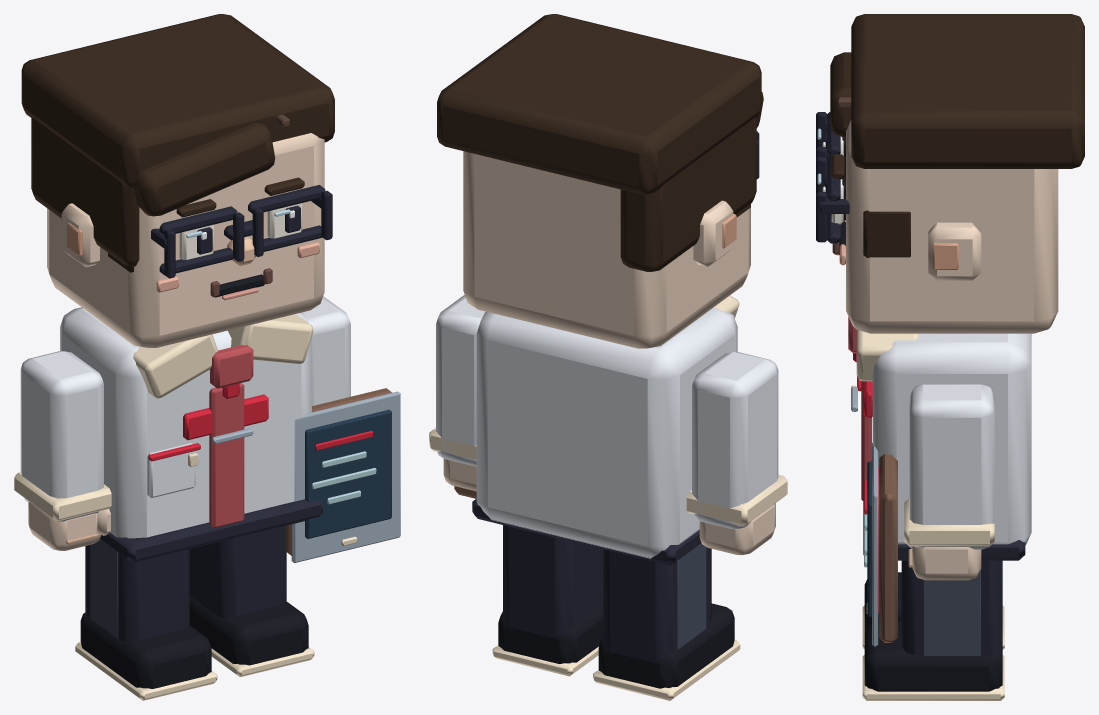
File: manager.glb
3 views of the same model, side by side, from view 1: azimuth 30°, elevation 25°; view 2: azimuth 150°, elevation 25°; view 3: azimuth 270°, elevation 25° (orthographic). The views are drawn at different scales.
Visible parts, largest first — view 1: Hair, Jacket, Face, Arm_L_sleeve, TabletDisplay, HairSide, Leg_R_trouser, SweptFringe, Leg_L_trouser, TabletRim, Leg_L_shoe, Leg_R_shoe (+21 smaller); view 2: Jacket, Hair, Face, Arm_L_sleeve, HairSide, Leg_R_trouser, Leg_L_trouser, Arm_R_sleeve, Leg_L_shoe, Leg_R_shoe, TrouserSeam, Arm_L_hand (+7 smaller); view 3: Hair, Face, Jacket, Arm_R_sleeve, Leg_R_shoe, TrouserSeam.001, Leg_R_trouser, Tablet, Ear.001, Arm_R_hand, Sideburn.001, SleeveCuff.001 (+10 smaller).
Part boxes in pixels (x1,y1,x2,y2): Hair: [21, 14, 334, 187]; Jacket: [60, 307, 311, 538]; Face: [47, 133, 324, 348]; Arm_L_sleeve: [20, 351, 103, 521]; TabletDisplay: [305, 409, 391, 538]; HairSide: [31, 118, 139, 266]; Leg_R_trouser: [189, 526, 286, 618]; SweptFringe: [133, 123, 275, 216]; Leg_L_trouser: [85, 545, 189, 641]; TabletRim: [291, 391, 400, 562]; Leg_L_shoe: [80, 612, 211, 688]; Leg_R_shoe: [189, 596, 308, 665]; Jacket: [476, 307, 737, 558]; Hair: [437, 14, 761, 194]; Face: [463, 151, 750, 348]; Arm_L_sleeve: [692, 352, 778, 529]; HairSide: [620, 117, 756, 271]; Leg_R_trouser: [503, 525, 603, 638]; Leg_L_trouser: [603, 547, 711, 662]; Arm_R_sleeve: [436, 295, 485, 466]; Leg_L_shoe: [598, 603, 734, 688]; Leg_R_shoe: [498, 605, 603, 663]; TrouserSeam: [677, 543, 706, 649]; Arm_L_hand: [699, 503, 775, 555]; Hair: [851, 14, 1084, 168]; Face: [846, 120, 1058, 333]; Jacket: [872, 333, 1031, 545]; Arm_R_sleeve: [909, 384, 994, 549]; Leg_R_shoe: [864, 621, 1002, 691]; TrouserSeam.001: [923, 569, 980, 655]; Leg_R_trouser: [901, 560, 1002, 658]; Tablet: [879, 454, 897, 642]; Ear.001: [928, 222, 981, 280]; Arm_R_hand: [912, 546, 981, 580]; Sideburn.001: [863, 210, 910, 257]; SleeveCuff.001: [904, 498, 994, 546].
Size of the model in its own units: 0.751 by 1.24 by 0.5065.
